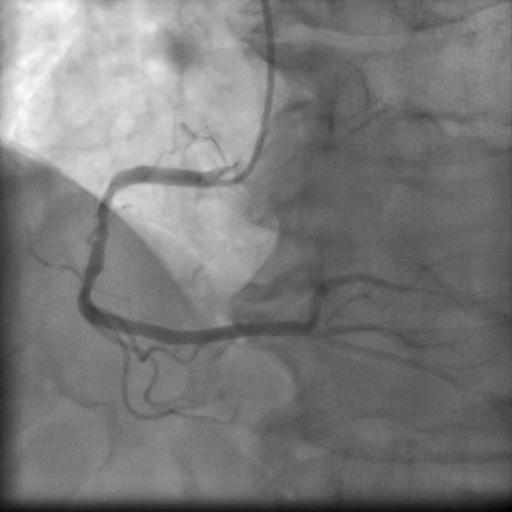Stenosis: (79, 171, 116, 304)
